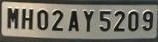character: (6, 6, 19, 29), (20, 7, 33, 30), (81, 9, 94, 32), (98, 9, 111, 32), (51, 9, 64, 31), (127, 9, 139, 31), (67, 9, 78, 32), (36, 9, 48, 30), (113, 10, 125, 31), (141, 10, 153, 30)
